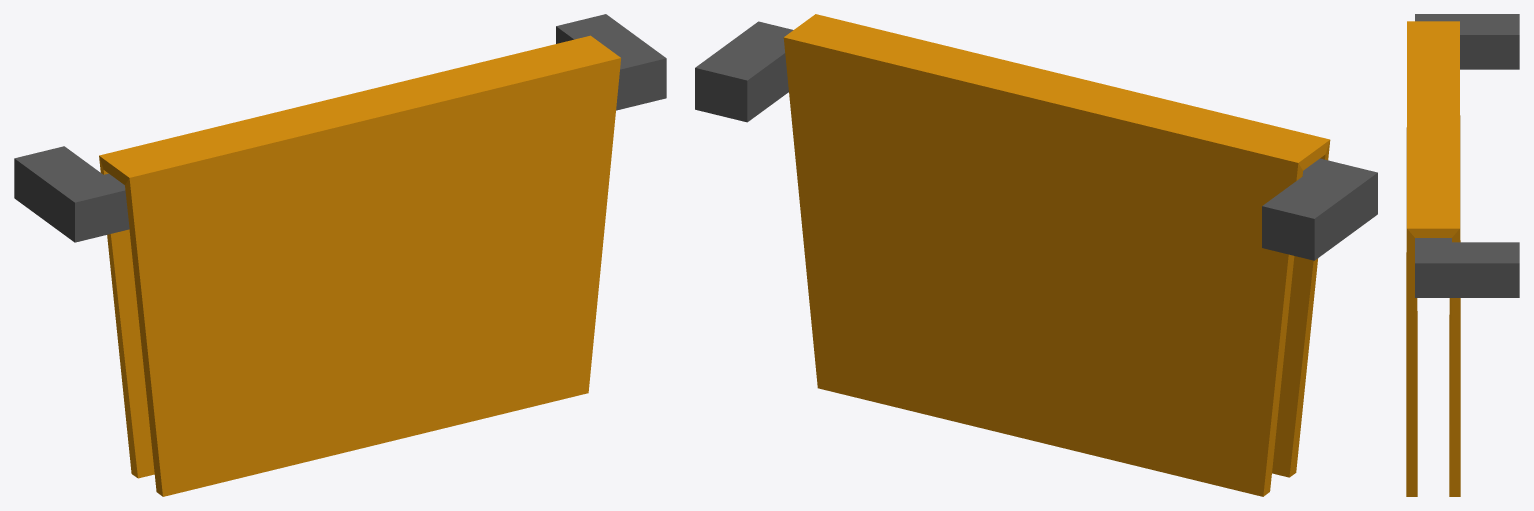
Rendered from Towel.fbx.
3 renders of one model, left to right at view 1: azimuth 30°, elevation 25°; view 2: azimuth 150°, elevation 25°; view 3: azimuth 270°, elevation 25°, orthographic. The views are drawn at different scales.
Visible parts, largest first — view 1: Cube.001; view 2: Cube.001; view 3: Cube.001.
Part boxes in pixels (left/top/right/bottom): Cube.001: left=14, top=14, right=666, bottom=496; Cube.001: left=695, top=14, right=1377, bottom=496; Cube.001: left=1406, top=14, right=1519, bottom=496.
Size of the model in its own units: 22.65 by 62.25 by 118.
